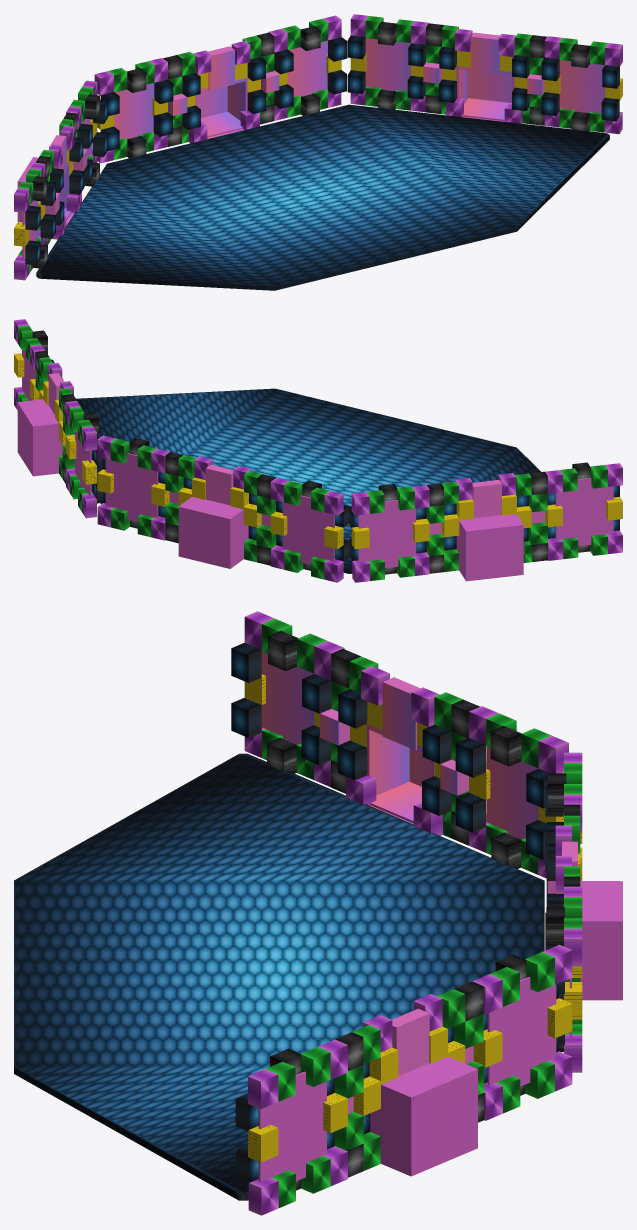
File: dance.glb
3 renders of one model, top to bottom at view 1: azimuth 30°, elevation 25°; view 2: azimuth 150°, elevation 25°; view 3: azimuth 270°, elevation 25°, orthographic. The views are drawn at different scales.
Parts seen in each view (by area): view 1: Plane, Object_114.002, Object_147.002, Object_114, Object_147, Object_19.002, Object_5.002, Object_5, Object_19, Object_13.002, Object_13, Object_25 (+26 smaller); view 2: Plane, Object_18.001, Object_146.001, Object_113.001, Object_18, Object_146, Object_113, Object_15.002, Object_4.001, Object_4, Object_18.002, Object_21.001 (+28 smaller); view 3: Plane, Object_18.002, Object_113.002, Object_146.002, Object_24, Object_114.001, Object_147.001, Object_24.002, Object_4.002, Object_16.001, Object_21.002, Object_5.001 (+33 smaller).
Part boxes in pixels (x1=…): Plane: x1=36, y1=104, x2=609, y2=290; Object_114.002: x1=365, y1=38, x2=410, y2=91; Object_147.002: x1=559, y1=60, x2=604, y2=113; Object_114: x1=114, y1=83, x2=154, y2=139; Object_147: x1=287, y1=40, x2=327, y2=96; Object_19.002: x1=468, y1=70, x2=512, y2=102; Object_5.002: x1=471, y1=36, x2=499, y2=74; Object_5: x1=209, y1=50, x2=234, y2=90; Object_19: x1=197, y1=86, x2=227, y2=117; Object_13.002: x1=463, y1=98, x2=511, y2=119; Object_13: x1=201, y1=111, x2=242, y2=135; Object_25: x1=227, y1=81, x2=245, y2=120; Plane: x1=76, y1=388, x2=540, y2=573; Object_18.001: x1=465, y1=524, x2=523, y2=581; Object_146.001: x1=358, y1=500, x2=416, y2=567; Object_113.001: x1=555, y1=478, x2=613, y2=546; Object_18: x1=178, y1=506, x2=230, y2=568; Object_146: x1=105, y1=453, x2=158, y2=522; Object_113: x1=282, y1=495, x2=334, y2=564; Object_15.002: x1=34, y1=423, x2=62, y2=476; Object_4.001: x1=472, y1=480, x2=501, y2=518; Object_4: x1=205, y1=464, x2=233, y2=505; Object_18.002: x1=17, y1=402, x2=34, y2=476; Object_21.001: x1=461, y1=514, x2=521, y2=534; Plane: x1=14, y1=753, x2=544, y2=1200; Object_18.002: x1=409, y1=1068, x2=477, y2=1176; Object_113.002: x1=487, y1=977, x2=556, y2=1086; Object_146.002: x1=258, y1=1071, x2=326, y2=1182; Object_24: x1=580, y1=920, x2=620, y2=1000; Object_114.001: x1=258, y1=652, x2=314, y2=744; Object_147.001: x1=486, y1=746, x2=538, y2=839; Object_24.002: x1=370, y1=1084, x2=411, y2=1175; Object_4.002: x1=392, y1=1008, x2=429, y2=1075; Object_16.001: x1=369, y1=730, x2=409, y2=795; Object_21.002: x1=383, y1=1057, x2=475, y2=1101; Object_5.001: x1=382, y1=682, x2=415, y2=750.
Size of the model in its own units: 2.14 by 0.2841 by 1.17.
8 materials, 6 textured.
